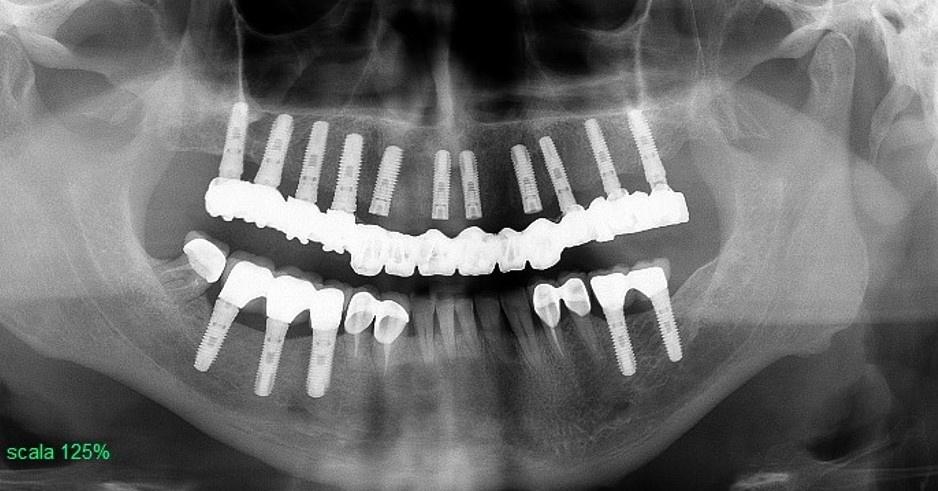END: (546, 330, 574, 370), (376, 342, 399, 379), (348, 332, 363, 370)
IMP: (174, 291, 250, 385), (243, 309, 294, 419), (495, 136, 555, 219), (574, 114, 632, 198), (359, 139, 414, 224), (621, 97, 669, 191), (527, 125, 583, 205), (211, 99, 259, 184), (329, 124, 371, 221), (296, 326, 344, 410), (424, 142, 466, 232), (645, 298, 696, 372), (451, 139, 493, 227), (253, 110, 298, 189), (294, 116, 332, 208), (596, 304, 641, 381)
PRR: (189, 170, 714, 289), (220, 246, 348, 335), (580, 247, 687, 306), (344, 287, 420, 344), (525, 276, 596, 331), (180, 227, 230, 288)
